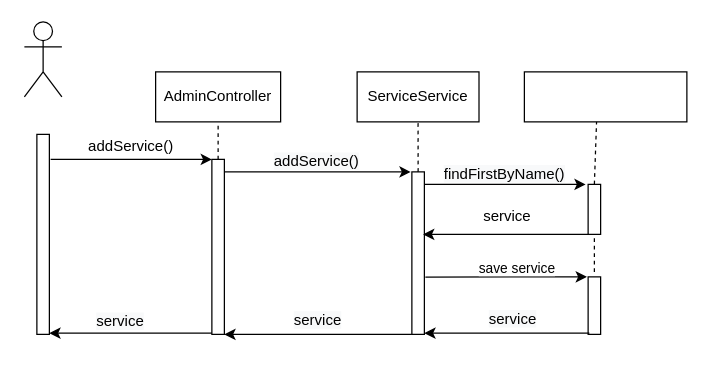
Image size: 709x366. Some labels were removed from this diagram. Each missing label, with the centre of its shape:
Admin: (42,59)
ServiceRepository: (605,96)
